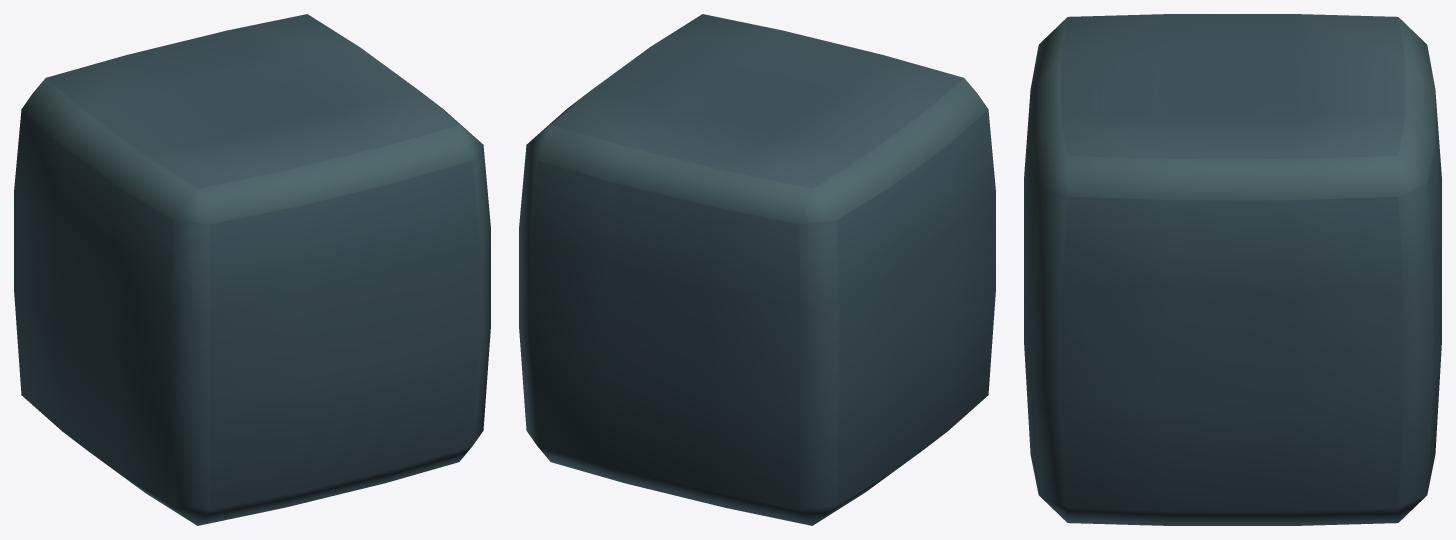
Rendered from cube_04_shade_4_LOD_setup.fbx.
3 renders of one model, left to right at view 1: azimuth 30°, elevation 25°; view 2: azimuth 150°, elevation 25°; view 3: azimuth 270°, elevation 25°, orthographic. The views are drawn at different scales.
Parts seen in each view (by area): view 1: cube_04_shade_4_LOD0; view 2: cube_04_shade_4_LOD0; view 3: cube_04_shade_4_LOD0.
Boxes of the visible parts, <box> form: cube_04_shade_4_LOD0: <box>14,14,490,525</box>; cube_04_shade_4_LOD0: <box>519,14,995,525</box>; cube_04_shade_4_LOD0: <box>1024,14,1441,525</box>.
Size of what is drawn, in the model's own units: 112 by 108 by 112.
